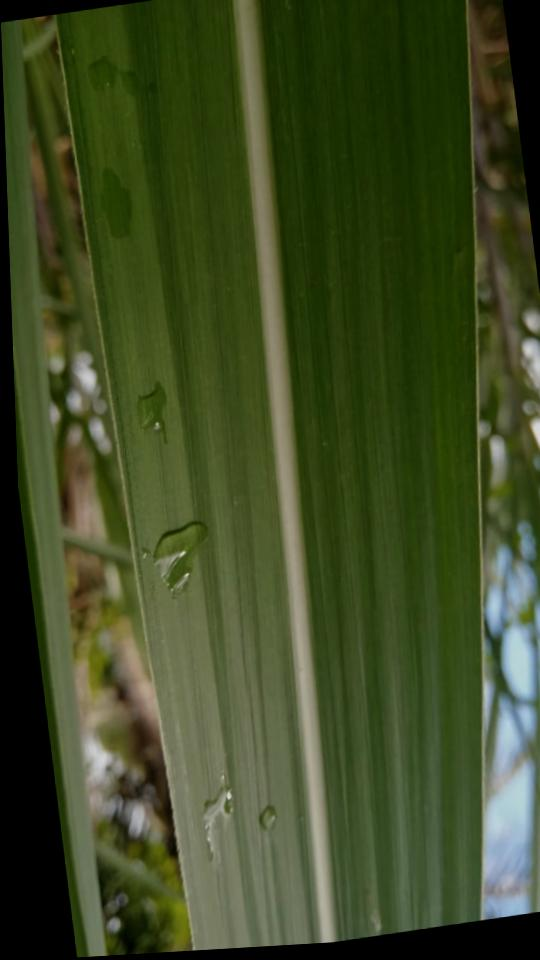Healthy: (58, 0, 481, 950)
